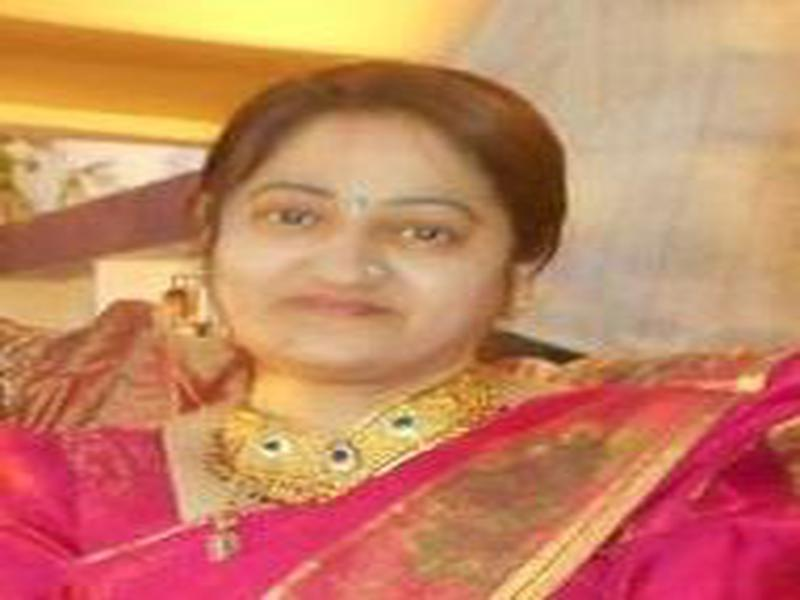without_mask: (210, 146, 508, 376)
